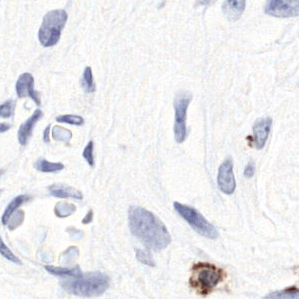Lymphocyte: (187, 260, 227, 293)
